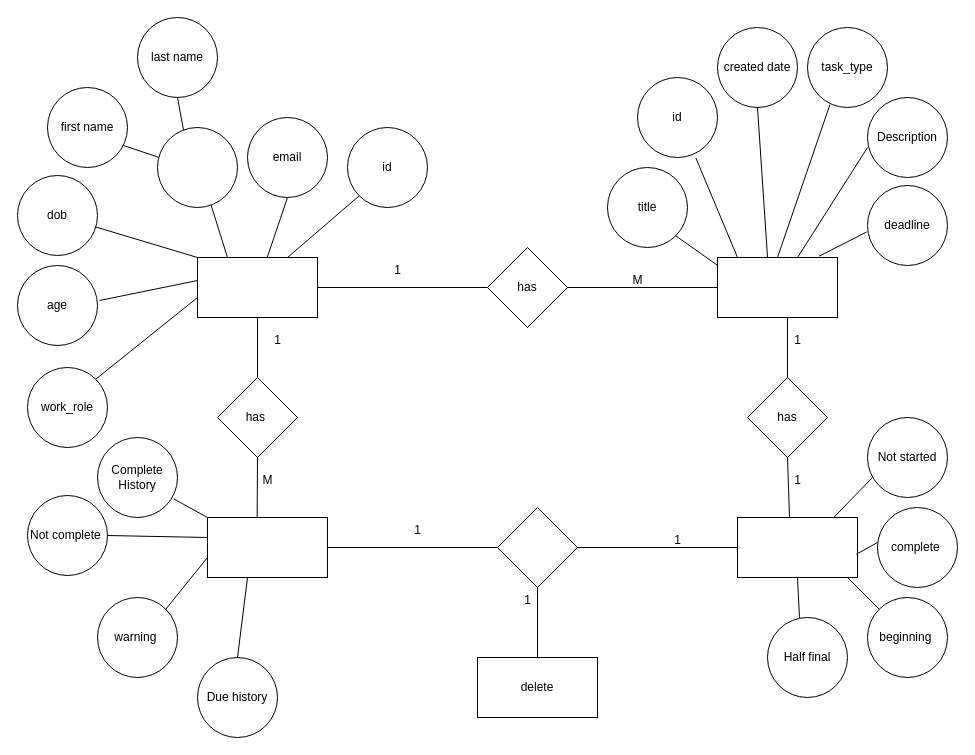
Some shapes in this 975 by 755 pixel diagram are drawn without their labels. Here are the shapes that lost their labels. From the top down, the centre of each, then its label:
At (x=197, y=167): "User_name".
At (x=257, y=287): "USER".
At (x=777, y=287): "Task".
At (x=267, y=547): "Task_history".
At (x=537, y=547): "can be".
At (x=797, y=547): "status".
